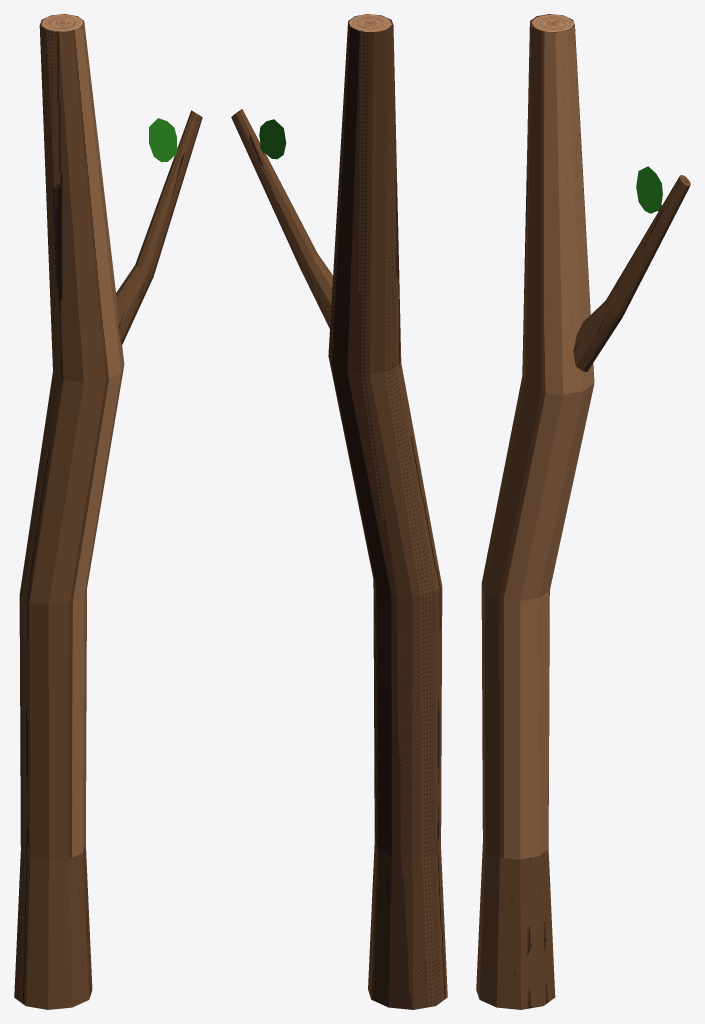
The model's file is Rama.fbx.
3 renders of one model, left to right at view 1: azimuth 30°, elevation 25°; view 2: azimuth 150°, elevation 25°; view 3: azimuth 330°, elevation 25°, orthographic. The views are drawn at different scales.
Parts seen in each view (by area): view 1: Rama; view 2: Rama; view 3: Rama.
Part boxes in pixels (bbox=[...]): Rama: bbox=[14, 14, 202, 1009]; Rama: bbox=[231, 14, 447, 1009]; Rama: bbox=[476, 14, 690, 1009].
Size of the model in its own units: 25.76 by 10 by 121.
Materials: 2 (1 with a texture image).
